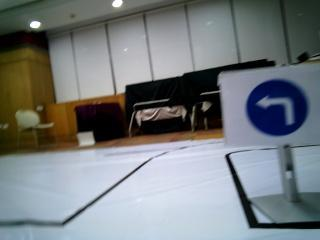left: (223, 73, 320, 143)
